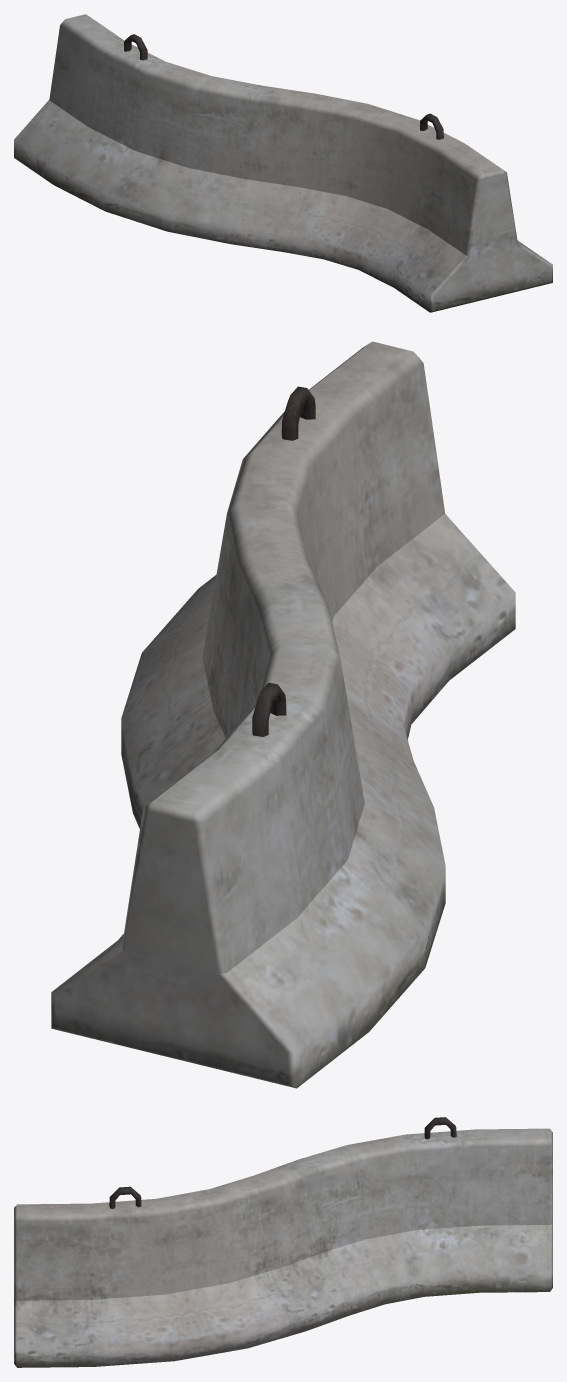
The model's file is ConcreteBarrier_A_E.fbx.
The picture shows the model from 3 angles, top to bottom: view 1: azimuth 30°, elevation 25°; view 2: azimuth 150°, elevation 25°; view 3: azimuth 270°, elevation 25°; orthographic projection. The views are drawn at different scales.
Parts seen in each view (by area): view 1: ConcreteBarrier_A_E; view 2: ConcreteBarrier_A_E; view 3: ConcreteBarrier_A_E.
Boxes of the visible parts, box(x1,y1,x2,y2) form: ConcreteBarrier_A_E: box(14, 14, 552, 312); ConcreteBarrier_A_E: box(51, 341, 515, 1088); ConcreteBarrier_A_E: box(14, 1117, 552, 1367).
Bounding box in the file's own units: 180 × 89.84 × 300.
